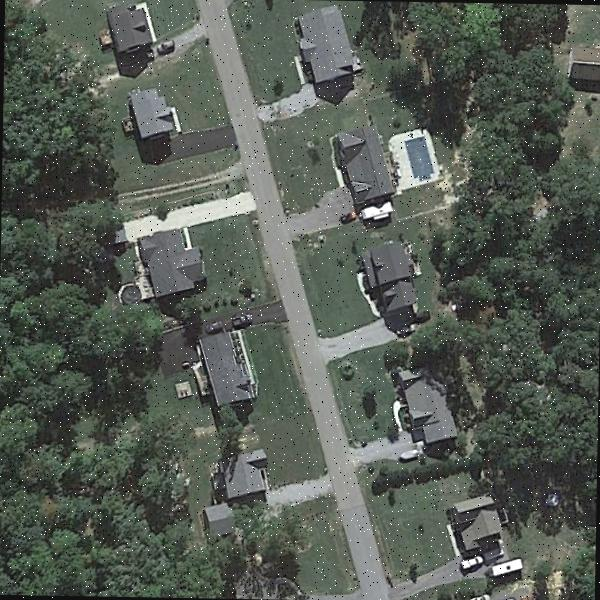Buildings: (327, 124, 398, 206), (398, 371, 474, 446), (294, 11, 360, 88), (360, 237, 416, 324), (138, 230, 198, 298), (199, 334, 259, 396), (218, 440, 278, 498), (97, 14, 160, 55), (455, 496, 496, 554), (126, 94, 180, 138)
